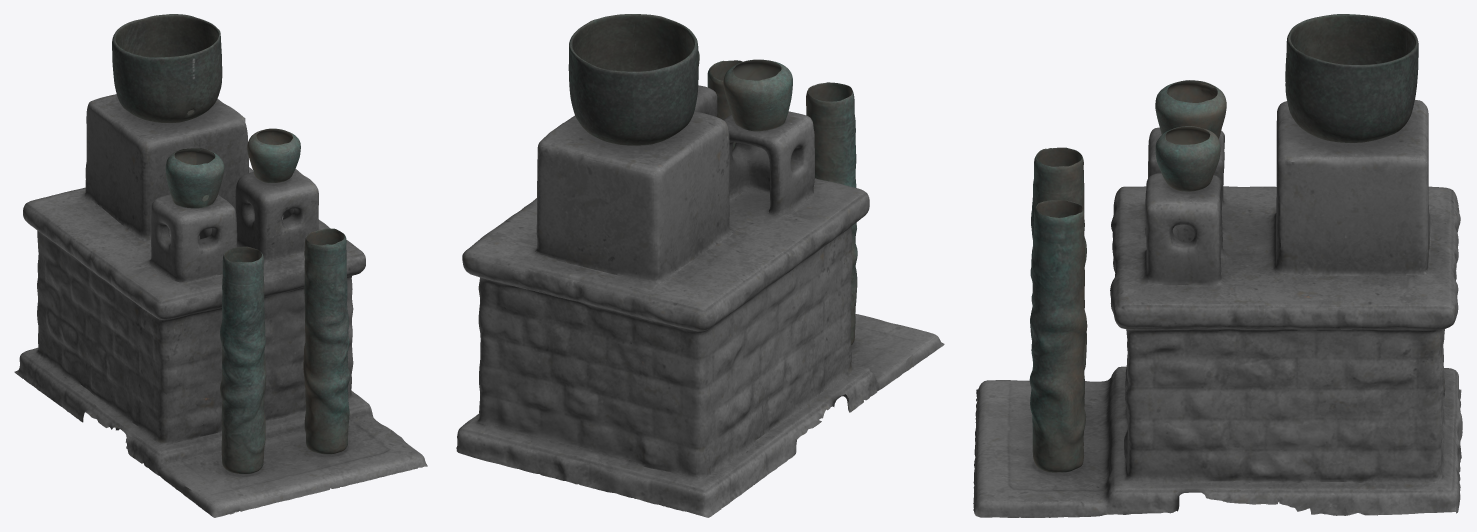
File: clepsydra_of_changgyeonggung_palace.glb
The picture shows the model from 3 angles, left to right: view 1: azimuth 30°, elevation 25°; view 2: azimuth 150°, elevation 25°; view 3: azimuth 270°, elevation 25°; orthographic projection. The views are drawn at different scales.
Visible parts, largest first — view 1: Object_2, Object_3; view 2: Object_2, Object_3; view 3: Object_2, Object_3.
Part boxes in pixels (<box>): Object_2: <box>14,94,427,517</box>; Object_3: <box>20,14,365,517</box>; Object_2: <box>456,85,944,517</box>; Object_3: <box>457,14,944,510</box>; Object_2: <box>973,99,1462,517</box>; Object_3: <box>977,14,1460,514</box>.
Bounding box in the file's own units: 2205 × 3252 × 3447.
1 material, 1 textured.
